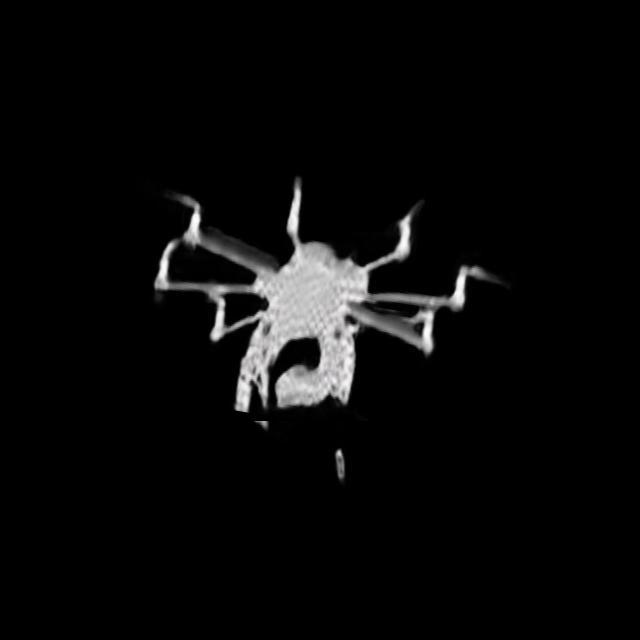drone: (118, 168, 516, 421)
